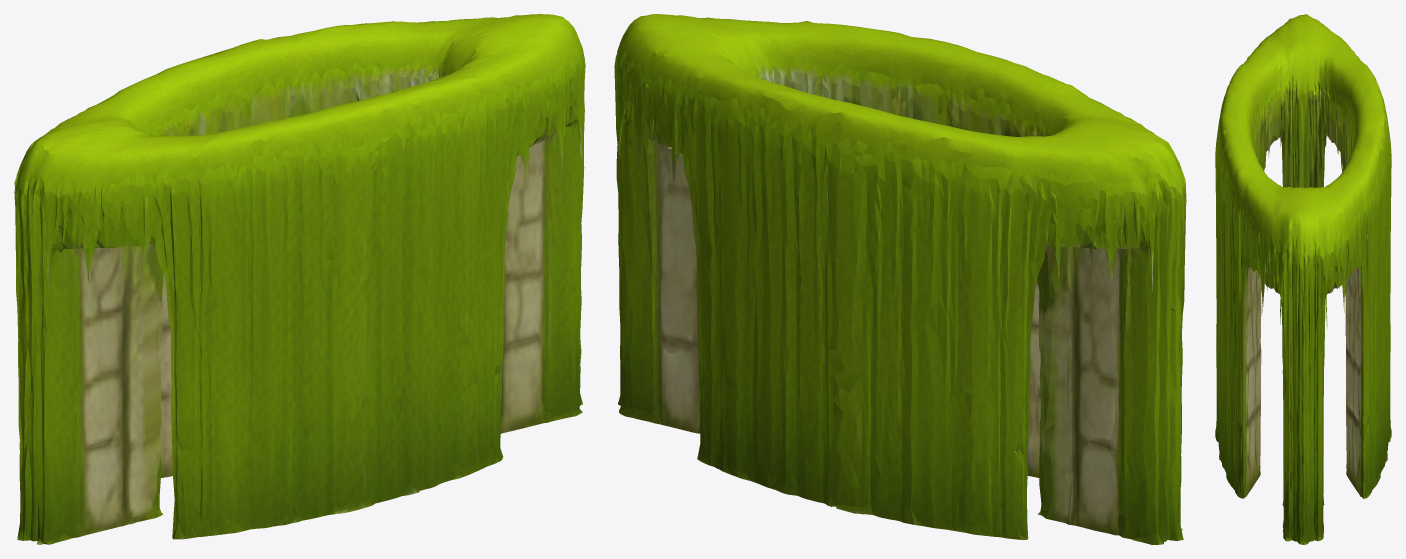
File: vine_wrapped_arch.glb
3 renders of one model, left to right at view 1: azimuth 30°, elevation 25°; view 2: azimuth 150°, elevation 25°; view 3: azimuth 270°, elevation 25°, orthographic. The views are drawn at different scales.
Parts seen in each view (by area): view 1: vine_wrapped_arch; view 2: vine_wrapped_arch; view 3: vine_wrapped_arch.
Boxes of the visible parts, box(x1,y1,x2,y2) form: vine_wrapped_arch: box(14, 14, 585, 544); vine_wrapped_arch: box(614, 14, 1186, 544); vine_wrapped_arch: box(1215, 14, 1391, 544).
Size of the model in its own units: 6 by 4 by 2.
Materials: 1 (1 with a texture image).
